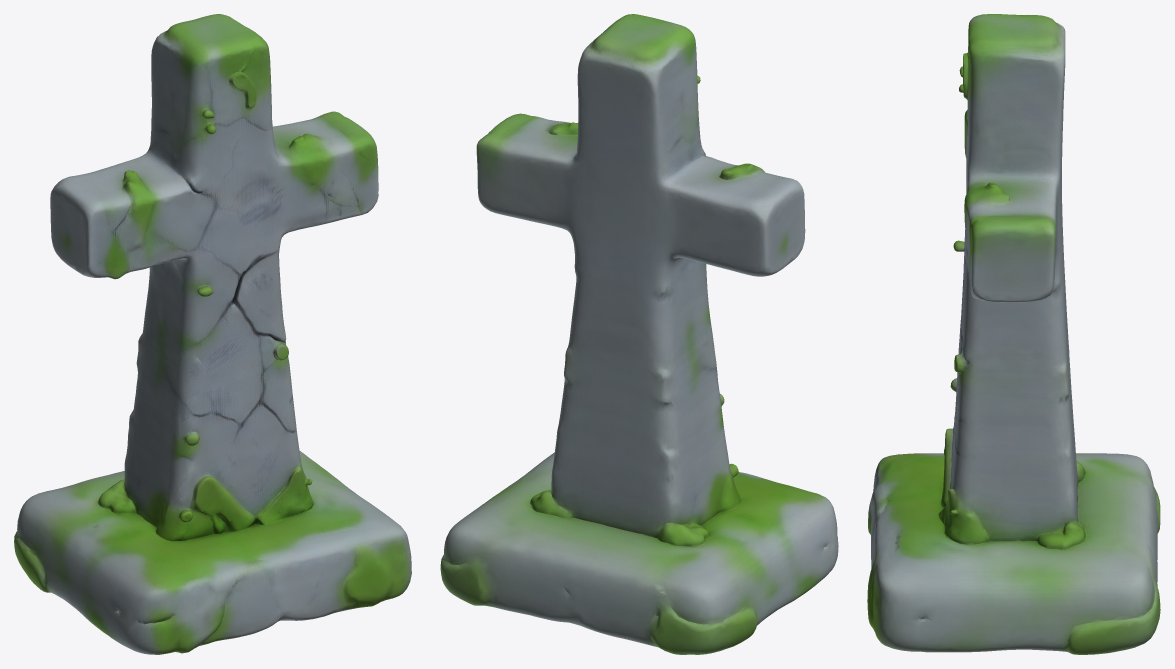
File: cross_grave.glb
3 views of the same model, side by side, from view 1: azimuth 30°, elevation 25°; view 2: azimuth 150°, elevation 25°; view 3: azimuth 270°, elevation 25° (orthographic).
Visible parts, largest first — view 1: Mesh; view 2: Mesh; view 3: Mesh.
Part boxes in pixels (bbox=[...]): Mesh: bbox=[14, 14, 411, 654]; Mesh: bbox=[440, 14, 838, 654]; Mesh: bbox=[867, 14, 1160, 654].
Size of the model in its own units: 1.06 by 1.9 by 0.8992.
Materials: 1 (1 with a texture image).
